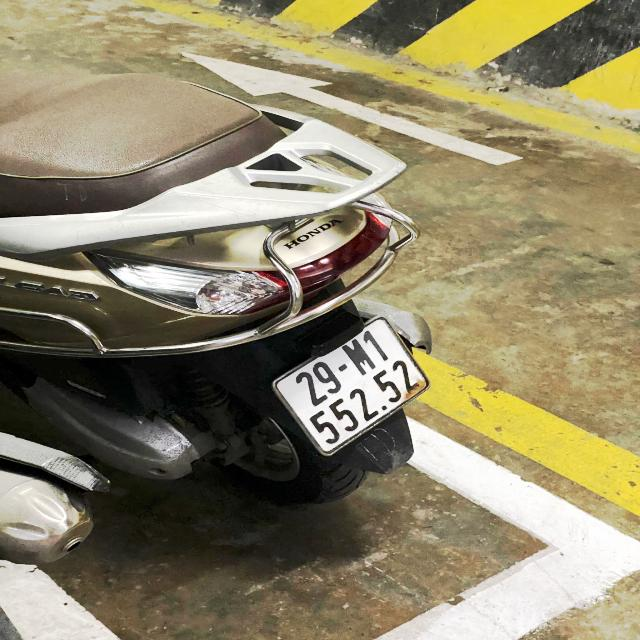license_plate: (264, 307, 441, 461)
